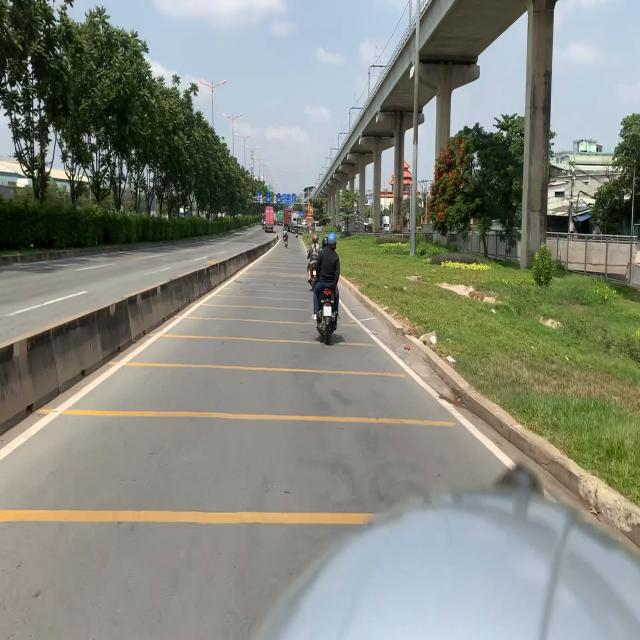Cam re phai: (307, 219, 312, 228)
